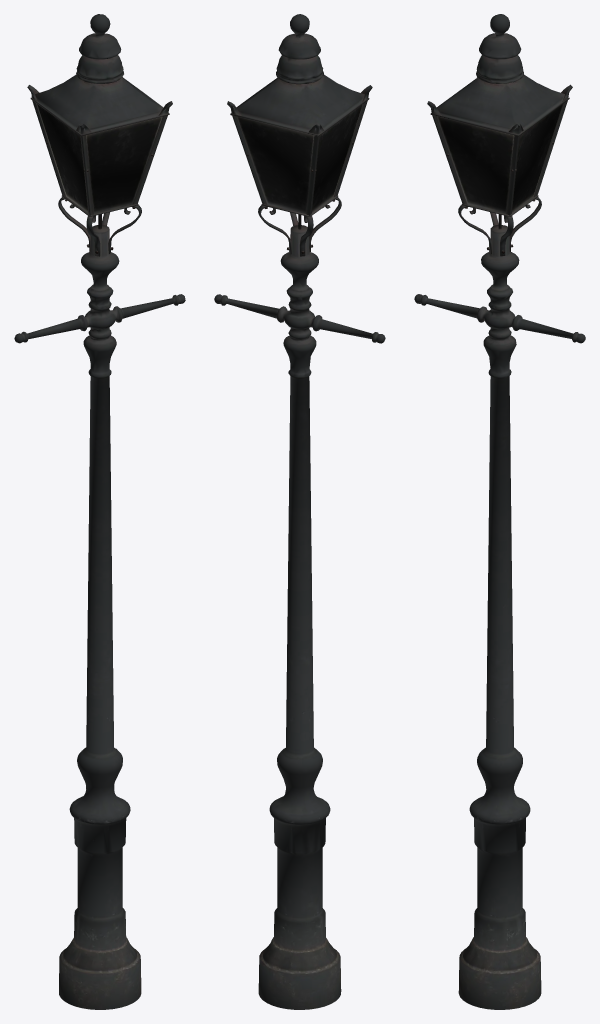
File: street_lamp_01.glb
3 views of the same model, side by side, from view 1: azimuth 30°, elevation 25°; view 2: azimuth 150°, elevation 25°; view 3: azimuth 330°, elevation 25° (orthographic).
Visible parts, largest first — view 1: street_lamp_01; view 2: street_lamp_01; view 3: street_lamp_01.
Boxes of the visible parts, <box> form: street_lamp_01: <box>14,14,185,1009</box>; street_lamp_01: <box>214,14,385,1009</box>; street_lamp_01: <box>414,14,585,1009</box>.
Bounding box in the file's own units: 0.7031 × 3.87 × 0.3858.
2 materials, 2 textured.
